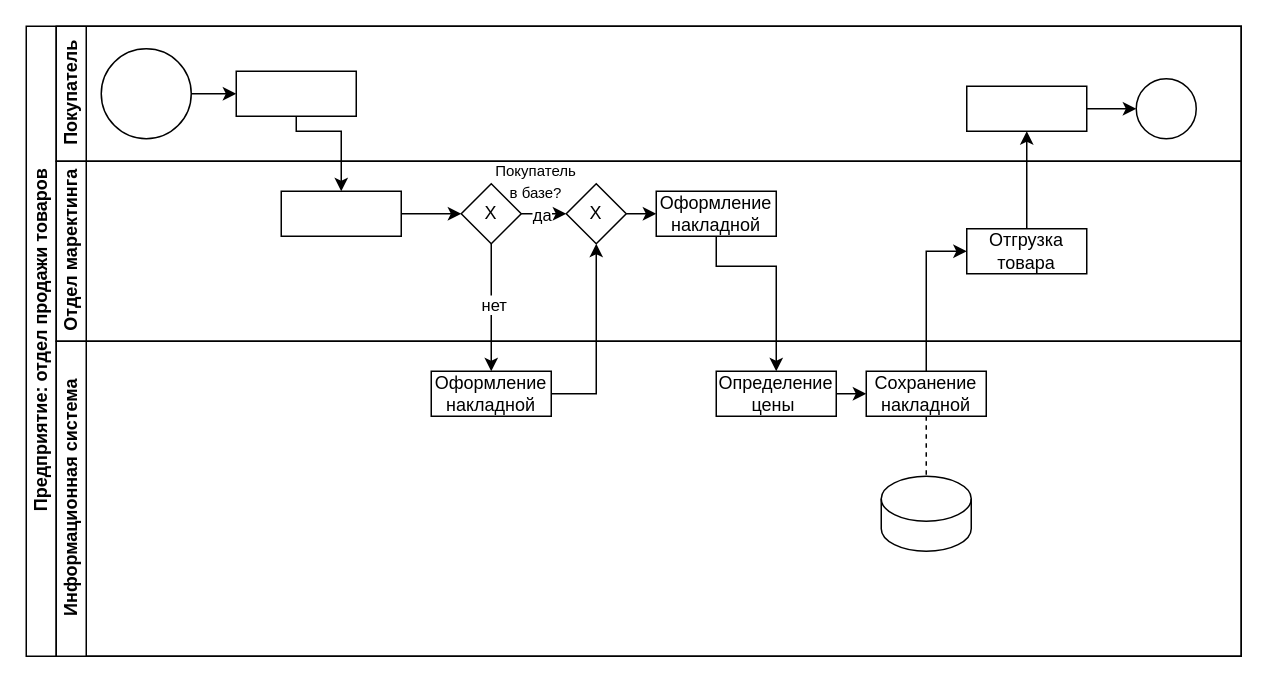
Image size: 1268x683. Some labels were removed from this diagram. The shapes that lost their labels are listed below. From the top down, each one's centre as x and y in pixels, then its label:
At [145,93]: "потребность в товаре".
At [295,93]: "Подача заявки".
At [1026,108]: "Получение товара".
At [1165,108]: "товар получен".
At [340,213]: "Прием заявки".
At [925,513]: "БД SQlite".
